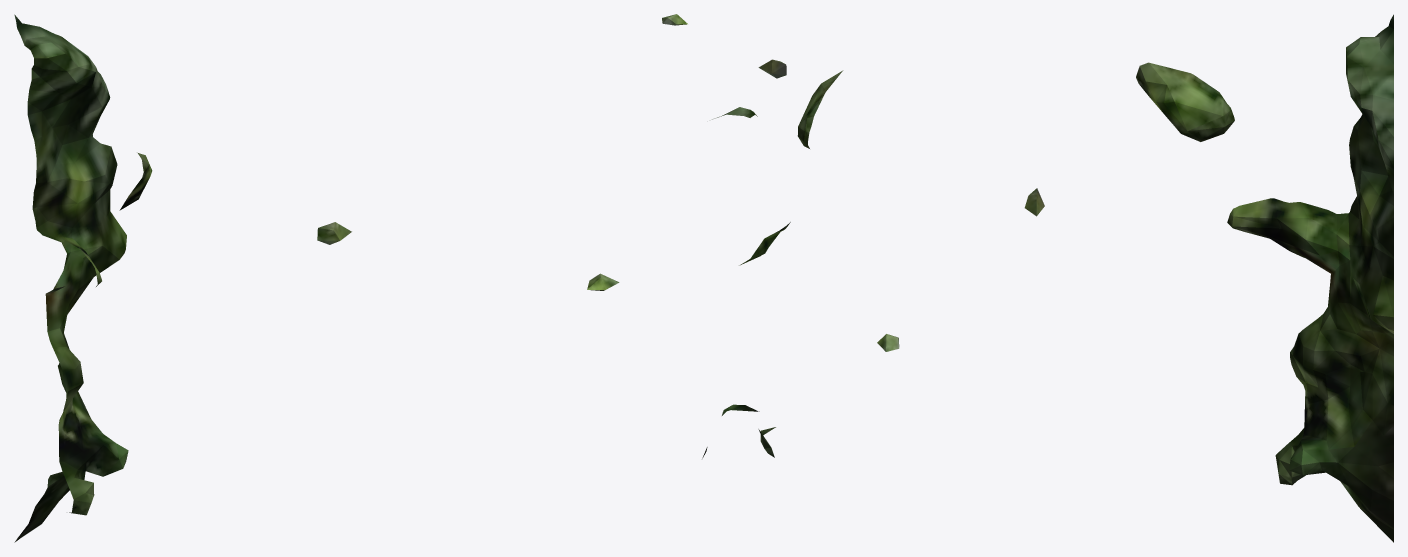
The picture shows the model from 3 angles, left to right: view 1: azimuth 30°, elevation 25°; view 2: azimuth 150°, elevation 25°; view 3: azimuth 270°, elevation 25°; orthographic projection. The views are drawn at different scales.
Bounding box in the file's own units: 0.3763 × 0.5422 × 0.4813.
Materials: 1 (1 with a texture image).
